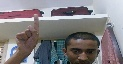hand: (14, 13, 41, 59)
